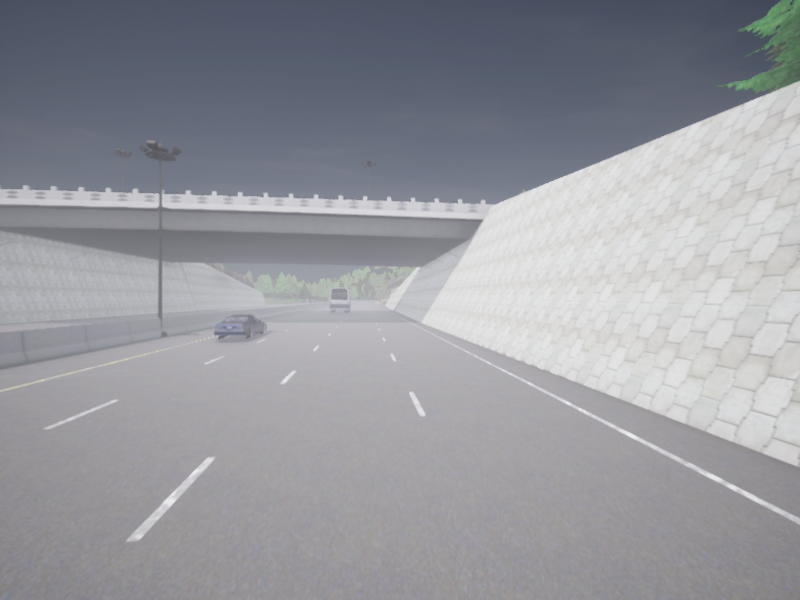vehicle: (214, 314, 266, 338), (330, 288, 351, 312)
